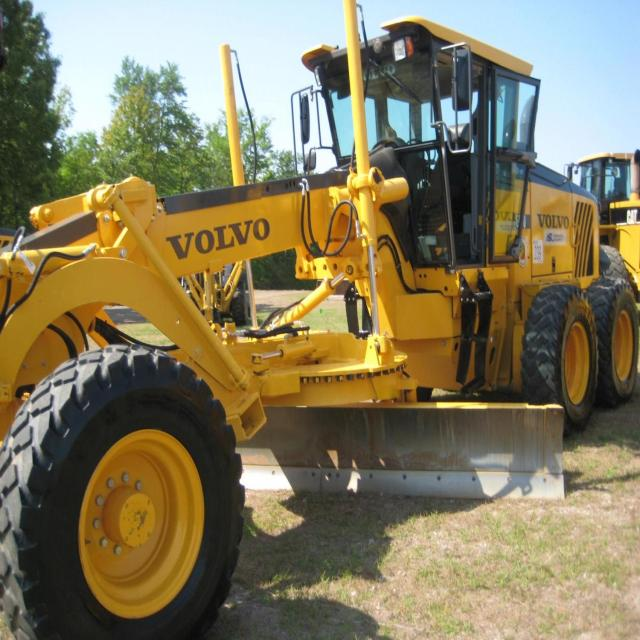buldozerpayloadergrader: (5, 5, 638, 640)
